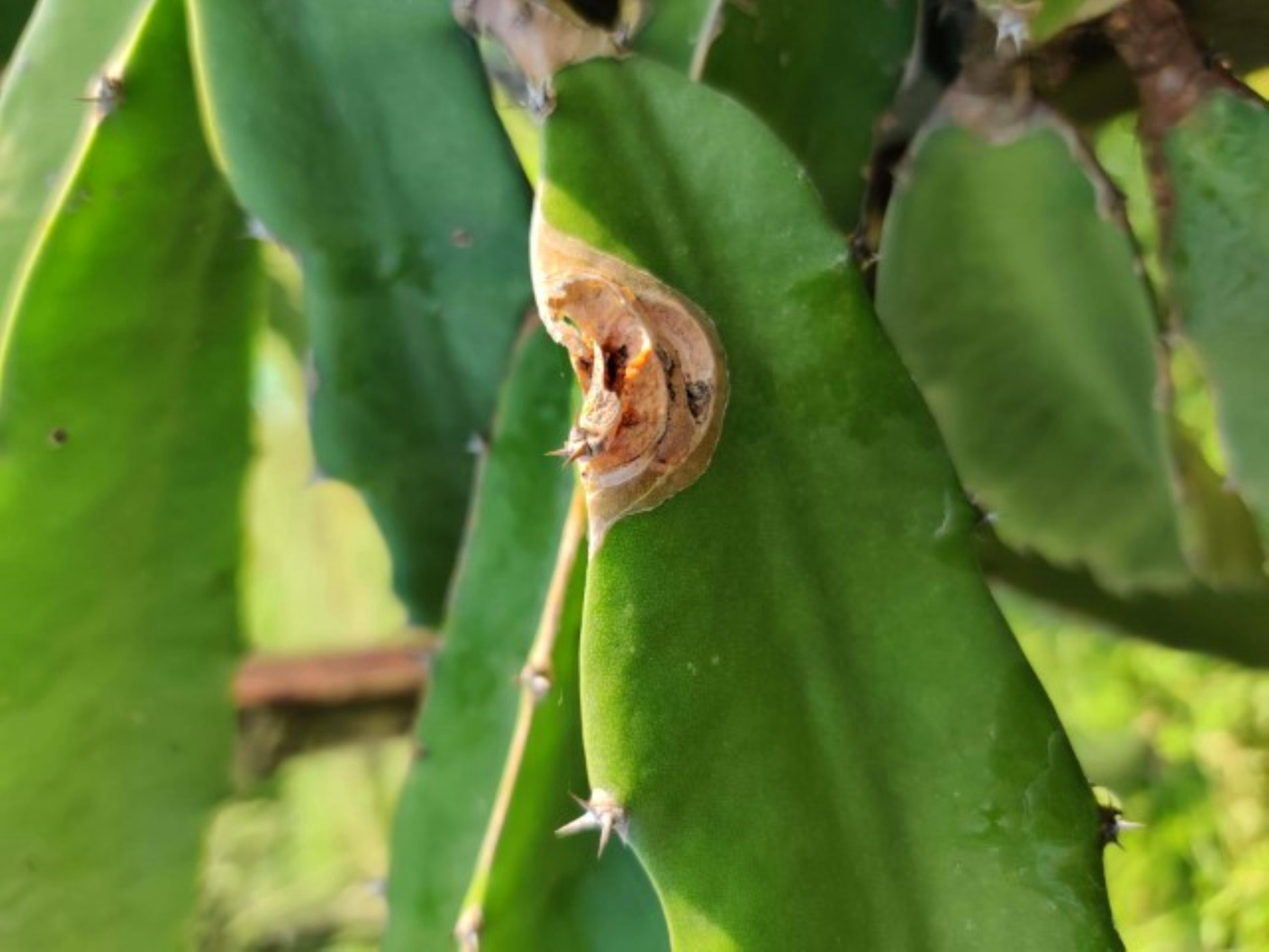stemcanker: (476, 182, 759, 561)
